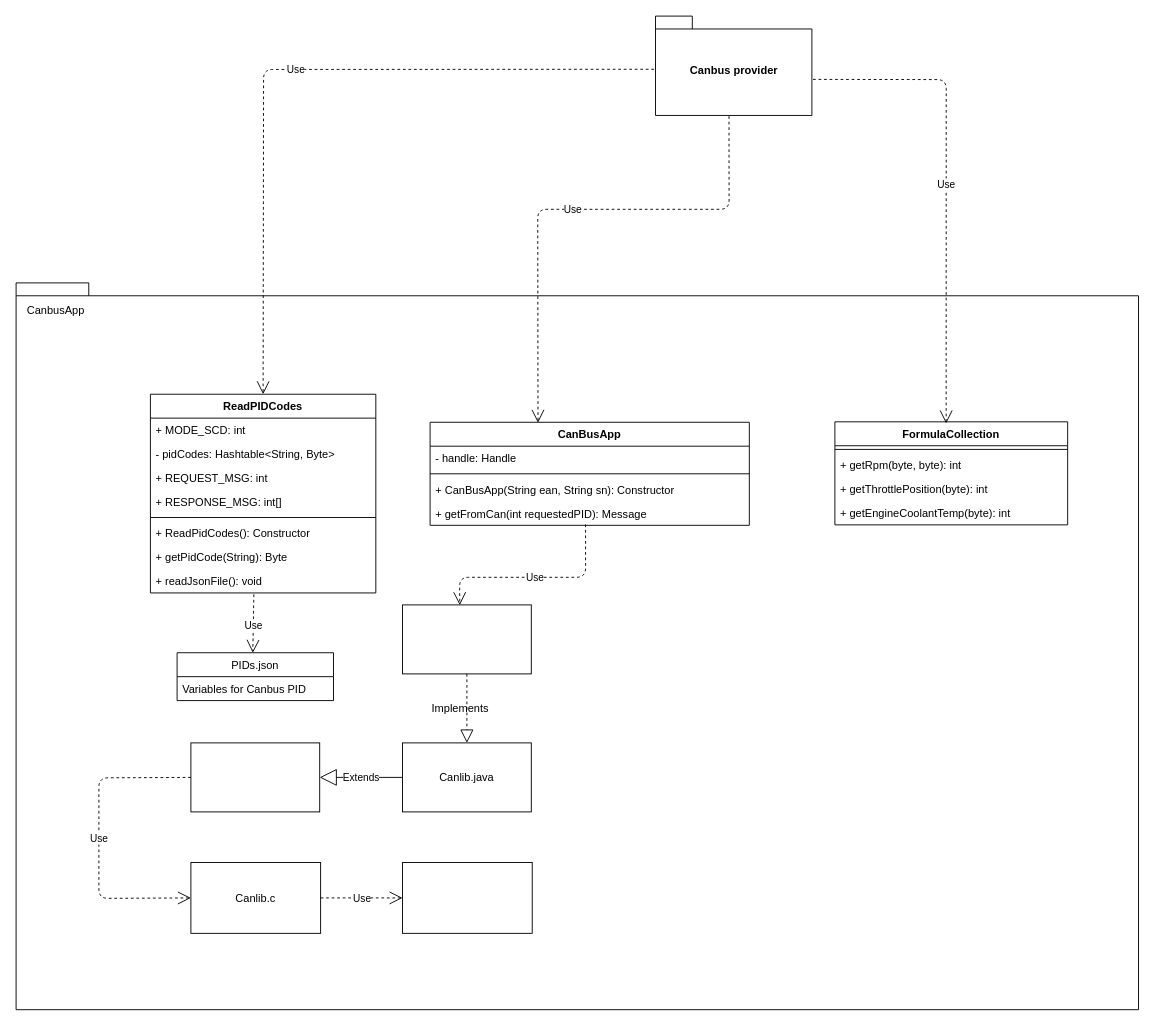
Some shapes in this 1155 by 1026 pixel diagram are drawn without their labels. The shapes that lost their labels are listed below. From the top down, each one's centre as x and y in pixels, then its label:
At [466,639]: "Handle.java".
At [255,777]: "Java Native Access".
At [467,897]: "CANBUS".
